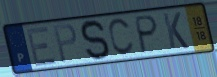C: (107, 16, 136, 57)
E: (24, 24, 59, 68)
K: (161, 11, 191, 51)
P: (52, 22, 78, 65), (134, 14, 160, 56)
S: (79, 18, 111, 63)
